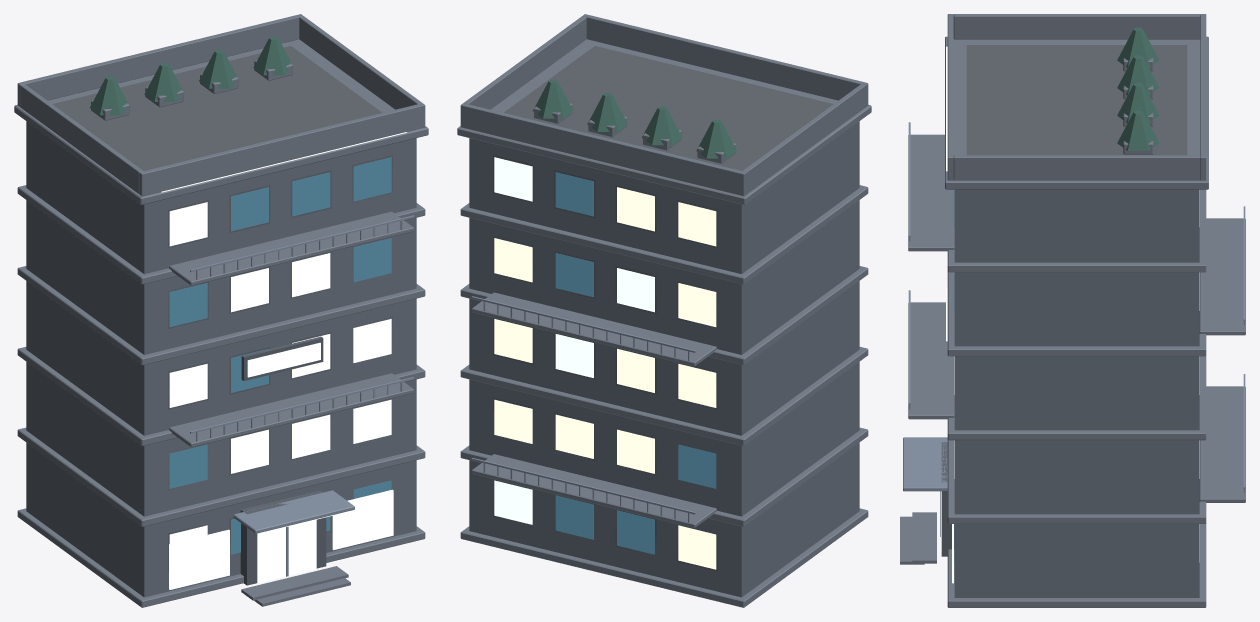
Rendered from residential_a.glb.
3 renders of one model, left to right at view 1: azimuth 30°, elevation 25°; view 2: azimuth 150°, elevation 25°; view 3: azimuth 270°, elevation 25°, orthographic. The views are drawn at different scales.
Visible parts, largest first — view 1: residential_a_Graphite@residential, residential_a_Concrete@residential, residential_a_WarmGlass, residential_a_Sidewalk, residential_a_BlackGlass, residential_a_DarkAlloy@residential, residential_a_Steel@residential, residential_a_Foliage, residential_a_SoftBlue; view 2: residential_a_Graphite@residential, residential_a_Concrete@residential, residential_a_Sidewalk, residential_a_WarmGlass, residential_a_BlackGlass, residential_a_CoolGlass, residential_a_DarkAlloy@residential, residential_a_Foliage, residential_a_Steel@residential; view 3: residential_a_Graphite@residential, residential_a_Concrete@residential, residential_a_Sidewalk, residential_a_Steel@residential, residential_a_Foliage, residential_a_DarkAlloy@residential.
Part boxes in pixels (bbox=[...]): residential_a_Graphite@residential: bbox=[26, 121, 416, 597]; residential_a_Concrete@residential: bbox=[14, 14, 428, 607]; residential_a_WarmGlass: bbox=[169, 202, 393, 589]; residential_a_Sidewalk: bbox=[52, 46, 382, 170]; residential_a_BlackGlass: bbox=[169, 157, 391, 554]; residential_a_DarkAlloy@residential: bbox=[168, 155, 392, 585]; residential_a_Steel@residential: bbox=[190, 215, 414, 576]; residential_a_Foliage: bbox=[90, 36, 293, 115]; residential_a_SoftBlue: bbox=[161, 132, 406, 533]; residential_a_Graphite@residential: bbox=[469, 121, 859, 597]; residential_a_Concrete@residential: bbox=[457, 14, 871, 607]; residential_a_Sidewalk: bbox=[503, 46, 833, 170]; residential_a_WarmGlass: bbox=[494, 187, 716, 569]; residential_a_BlackGlass: bbox=[555, 172, 716, 554]; residential_a_CoolGlass: bbox=[494, 157, 654, 524]; residential_a_DarkAlloy@residential: bbox=[493, 155, 717, 571]; residential_a_Foliage: bbox=[533, 79, 736, 158]; residential_a_Steel@residential: bbox=[471, 296, 695, 522]; residential_a_Graphite@residential: bbox=[954, 189, 1199, 597]; residential_a_Concrete@residential: bbox=[900, 14, 1245, 607]; residential_a_Sidewalk: bbox=[966, 45, 1187, 155]; residential_a_Steel@residential: bbox=[903, 122, 1245, 536]; residential_a_Foliage: bbox=[1117, 27, 1159, 150]; residential_a_DarkAlloy@residential: bbox=[941, 442, 954, 556].
Size of the model in its own units: 12.7 by 19.09 by 12.7.
